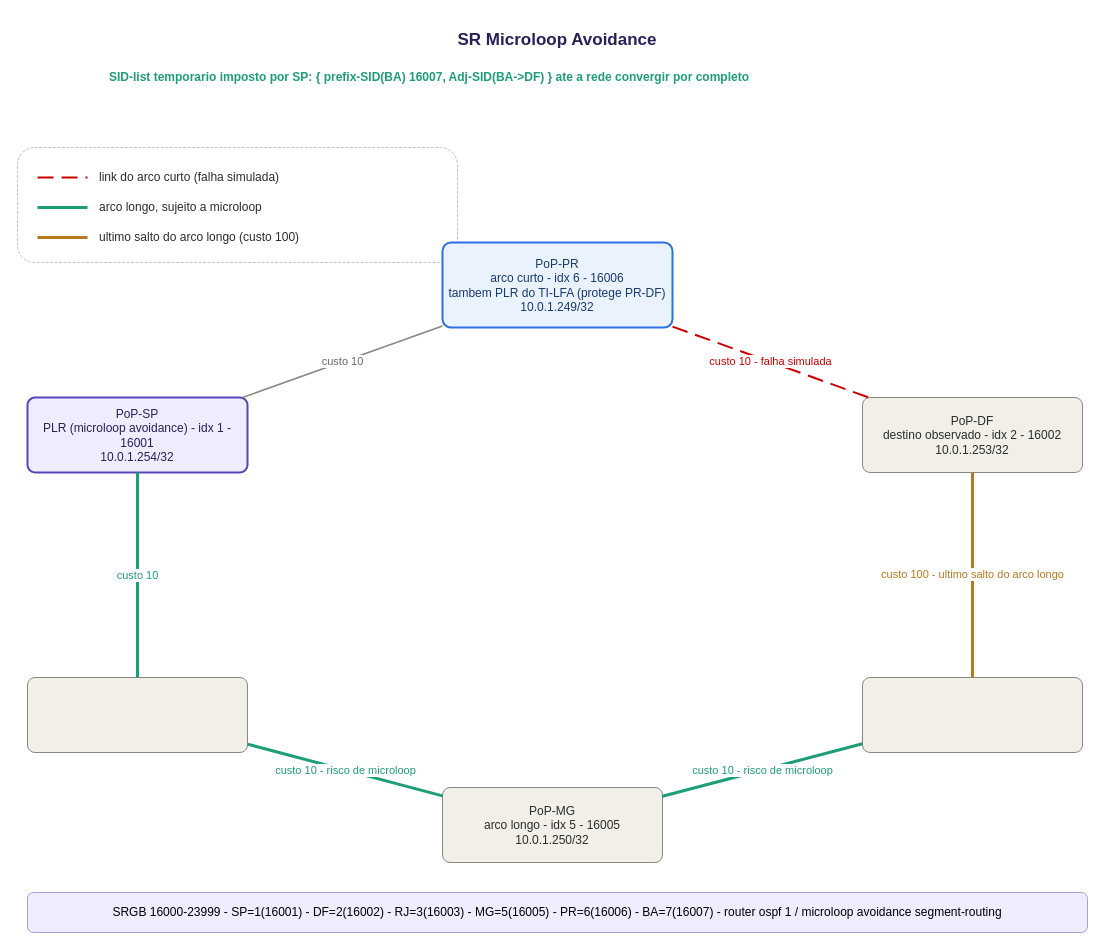
Image size: 1105x950. Some labels were removed from this diagram. The shapes that lost their labels are listed below. From the top down, each one's centre as x and y in pixels, then its label:
At point (137, 714): "PoP-RJ arco longo - idx 3 - 16003 10.0.1.252/32".
At point (972, 714): "PoP-BA arco longo, ancora da SID-list - idx 7 - 16007 10.0.1.248/32".
